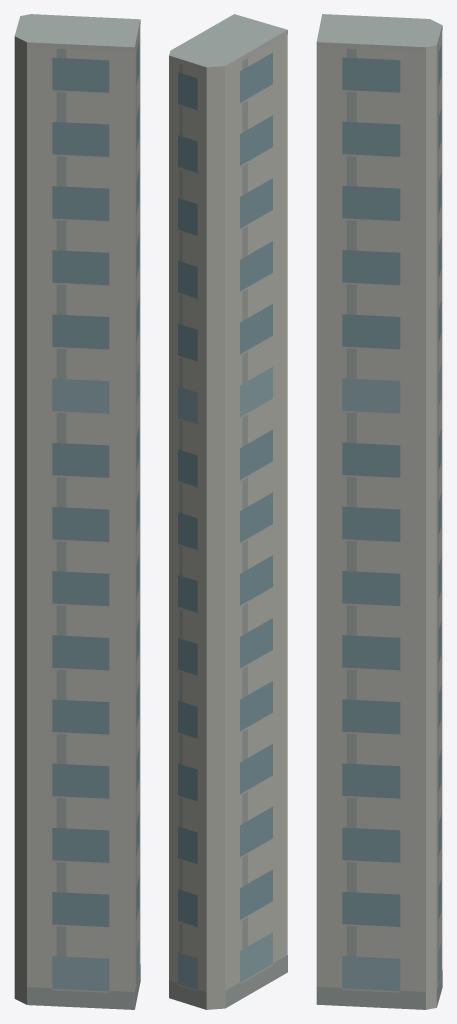
Rendered from survey-upis-32920454.glb.
3 renders of one model, left to right at view 1: azimuth 90°, elevation 25°; view 2: azimuth 150°, elevation 25°; view 3: azimuth 270°, elevation 25°, orthographic. The views are drawn at different scales.
Visible parts, largest first — view 1: survey-upis-32920454.tmp; view 2: survey-upis-32920454.tmp; view 3: survey-upis-32920454.tmp.
Boxes of the visible parts, left/top/right/bottom form: survey-upis-32920454.tmp: left=14, top=14, right=140, bottom=1009; survey-upis-32920454.tmp: left=169, top=14, right=287, bottom=1009; survey-upis-32920454.tmp: left=316, top=14, right=442, bottom=1009.
Size of the model in its own units: 3.4 by 45.75 by 5.43.
